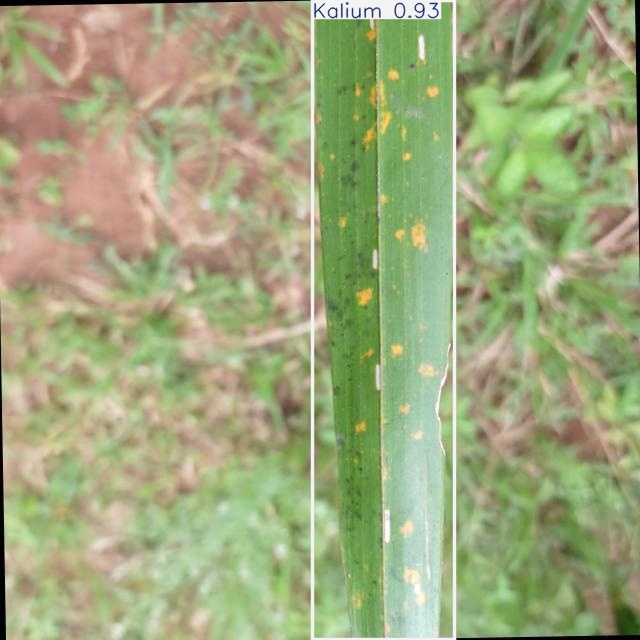Kalium: (313, 0, 455, 640)
